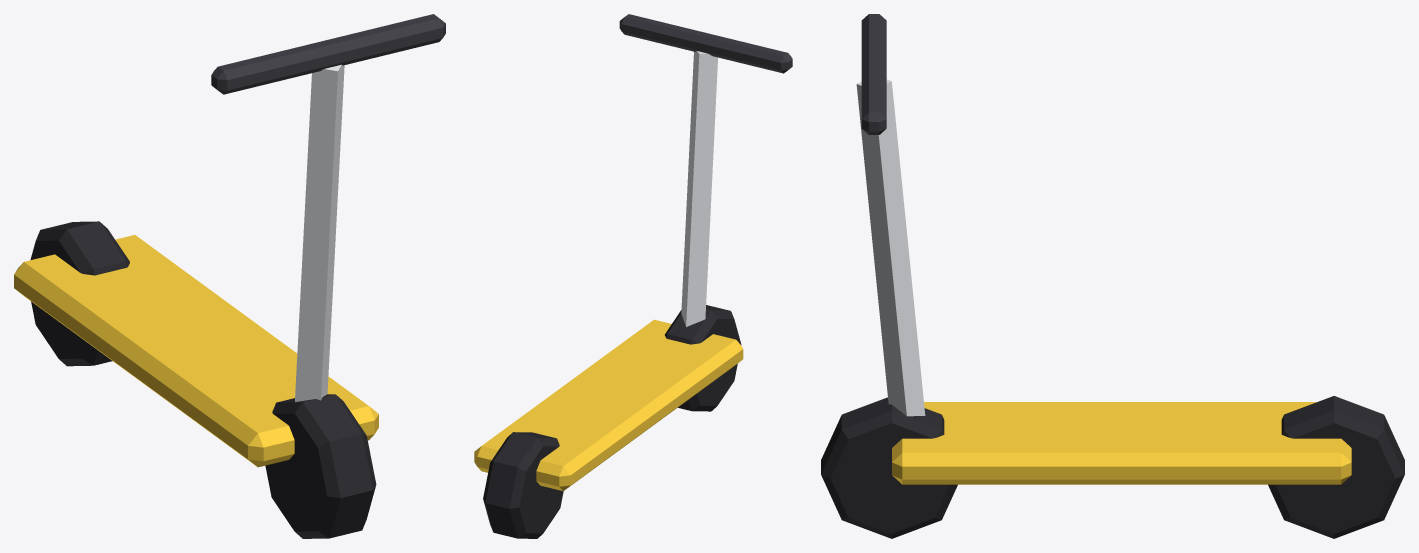
Rendered from YellowScooter.fbx.
The picture shows the model from 3 angles, left to right: view 1: azimuth 30°, elevation 25°; view 2: azimuth 150°, elevation 25°; view 3: azimuth 270°, elevation 25°; orthographic projection. The views are drawn at different scales.
Visible parts, largest first — view 1: YellowScooter, YellowScooter_WheelF, YellowScooter_WheelB; view 2: YellowScooter, YellowScooter_WheelB, YellowScooter_WheelF; view 3: YellowScooter, YellowScooter_WheelF, YellowScooter_WheelB.
Boxes of the visible parts, x1,y1,x2,y2 form: YellowScooter: (14,14,445,467); YellowScooter_WheelF: (265,394,376,538); YellowScooter_WheelB: (30,221,129,366); YellowScooter: (474,14,792,491); YellowScooter_WheelB: (483,432,563,538); YellowScooter_WheelF: (665,305,741,411); YellowScooter: (856,14,1351,484); YellowScooter_WheelF: (821,397,957,538); YellowScooter_WheelB: (1268,396,1404,538).
Bounding box in the file's own units: 1.4 × 2.92 × 3.3.
Materials: 1 (1 with a texture image).
